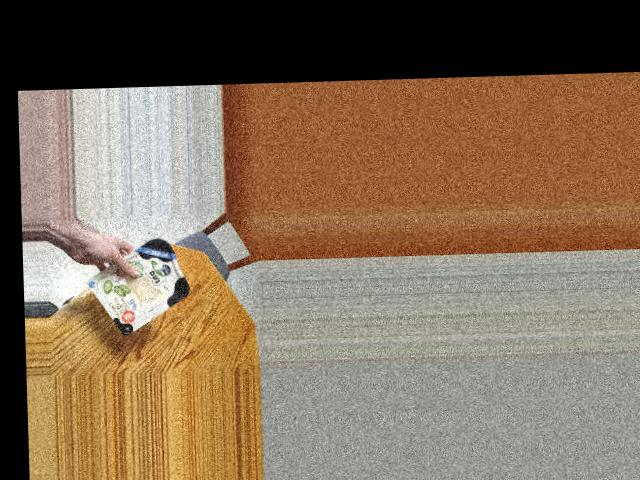cheese: (99, 237, 197, 328)
